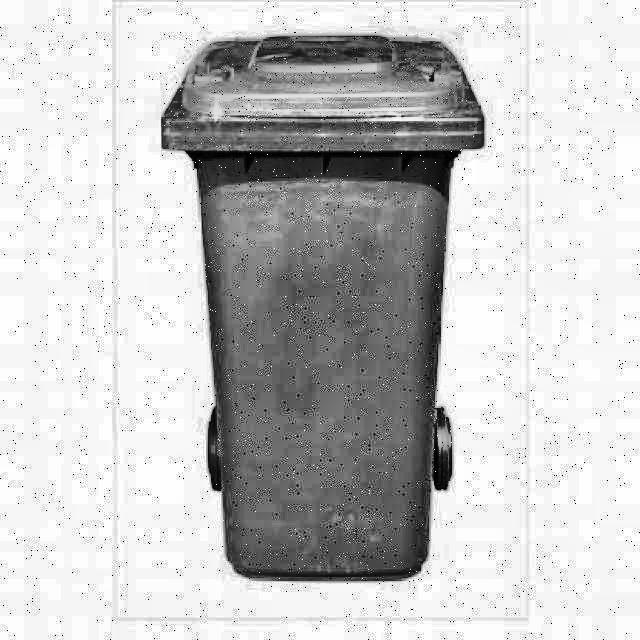Dustbin: (145, 22, 493, 615)
